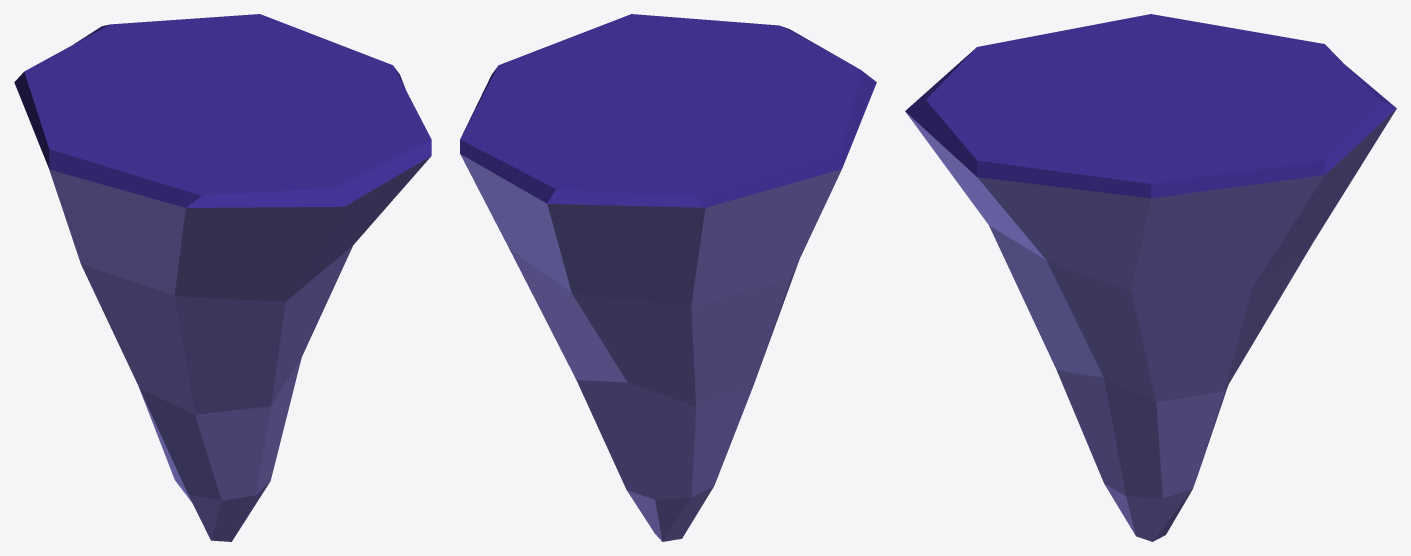
File: island.glb
3 renders of one model, left to right at view 1: azimuth 30°, elevation 25°; view 2: azimuth 150°, elevation 25°; view 3: azimuth 270°, elevation 25°, orthographic.
Visible parts, largest first — view 1: Island03_Cylinder; view 2: Island03_Cylinder; view 3: Island03_Cylinder.
Part boxes in pixels (<box>): Island03_Cylinder: <box>14,14,431,541</box>; Island03_Cylinder: <box>460,14,876,541</box>; Island03_Cylinder: <box>905,14,1396,541</box>.
Bounding box in the file's own units: 1.2 × 1.41 × 1.44.
